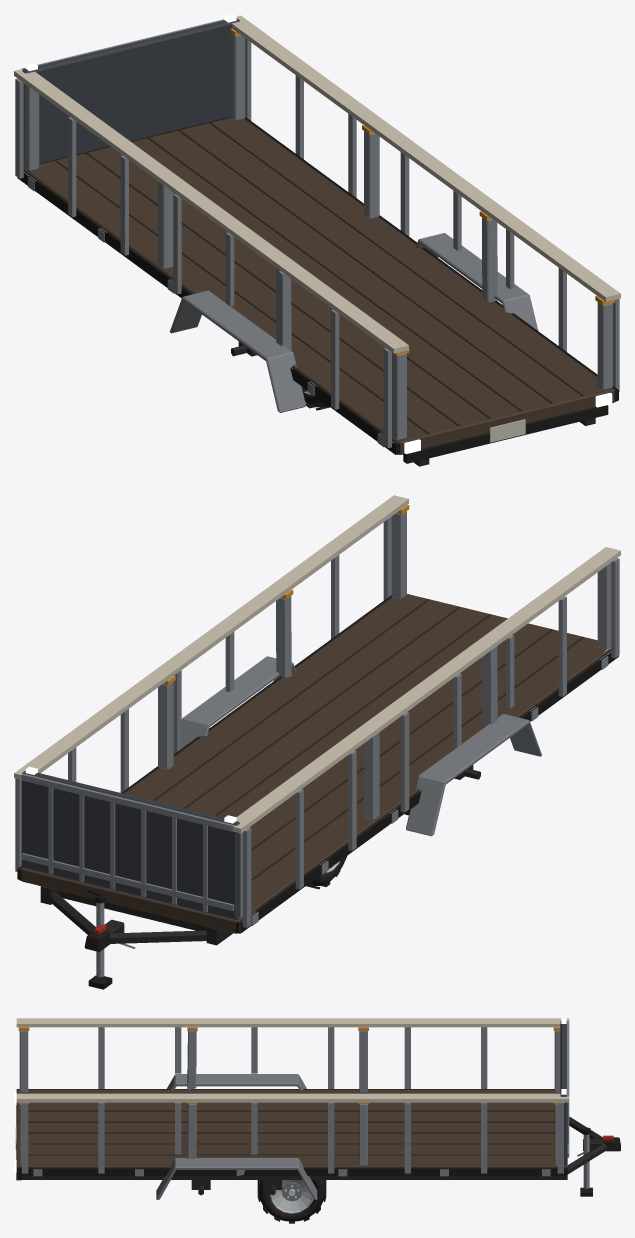
Rendered from HeavyHauler_Pickup.glb.
3 renders of one model, top to bottom at view 1: azimuth 30°, elevation 25°; view 2: azimuth 150°, elevation 25°; view 3: azimuth 270°, elevation 25°, orthographic. The views are drawn at different scales.
Parts seen in each view (by area): view 1: Bed, Body; view 2: Bed, Body, Hitch; view 3: Bed, Body, Wheel, Hitch.
Part boxes in pixels (x1=…): Bed: x1=14, y1=15, x2=620, y2=454; Body: x1=170, y1=233, x2=608, y2=466; Bed: x1=14, y1=495, x2=620, y2=933; Body: x1=40, y1=656, x2=541, y2=945; Hitch: x1=50, y1=888, x2=206, y2=989; Bed: x1=16, y1=1018, x2=569, y2=1176; Body: x1=15, y1=1074, x2=567, y2=1199; Wheel: x1=257, y1=1180, x2=326, y2=1223; Hitch: x1=567, y1=1116, x2=620, y2=1196.
Bounding box in the file's own units: 10.44 × 8.59 × 28.64.
